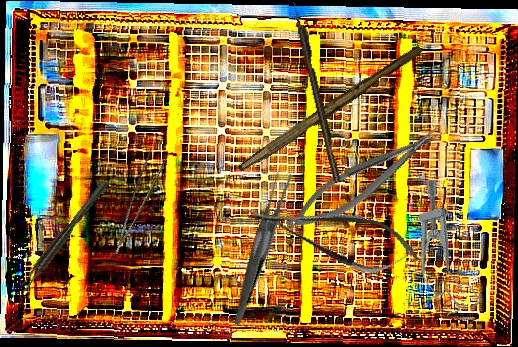Dressing Forceps: (189, 166, 330, 327)
Hook Surgical: (291, 0, 342, 184)
Micro Scissor: (241, 183, 427, 287)
Needle Holder: (277, 118, 453, 242)
Scalpel Handle: (237, 41, 424, 178)
Speculum: (397, 176, 484, 321)
Tissue Forceps: (16, 180, 112, 294), (98, 141, 174, 255)
